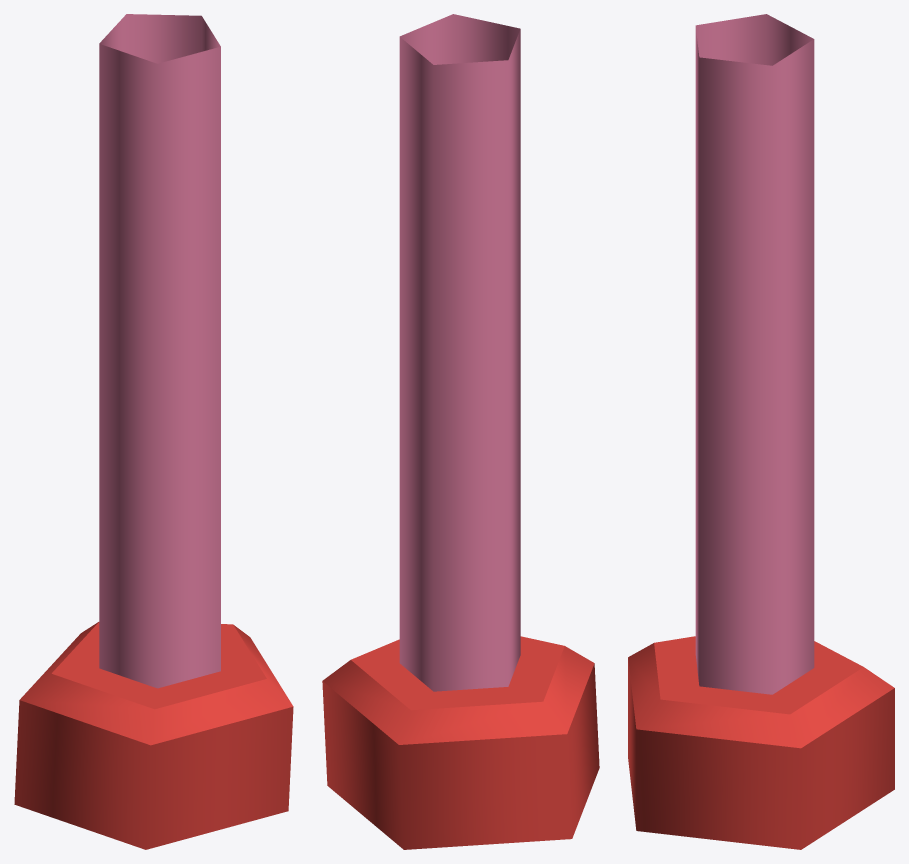
Rendered from Antene_2_D_1h.fbx.
3 views of the same model, side by side, from view 1: azimuth 30°, elevation 25°; view 2: azimuth 150°, elevation 25°; view 3: azimuth 270°, elevation 25° (orthographic).
Visible parts, largest first — view 1: Antene_2_D_1h; view 2: Antene_2_D_1h; view 3: Antene_2_D_1h.
Part boxes in pixels (box(x1,y1,x2,y2)): Antene_2_D_1h: box(14, 14, 293, 849); Antene_2_D_1h: box(322, 14, 599, 849); Antene_2_D_1h: box(628, 14, 894, 849).
Size of the model in its own units: 18.44 by 54.54 by 17.44.
